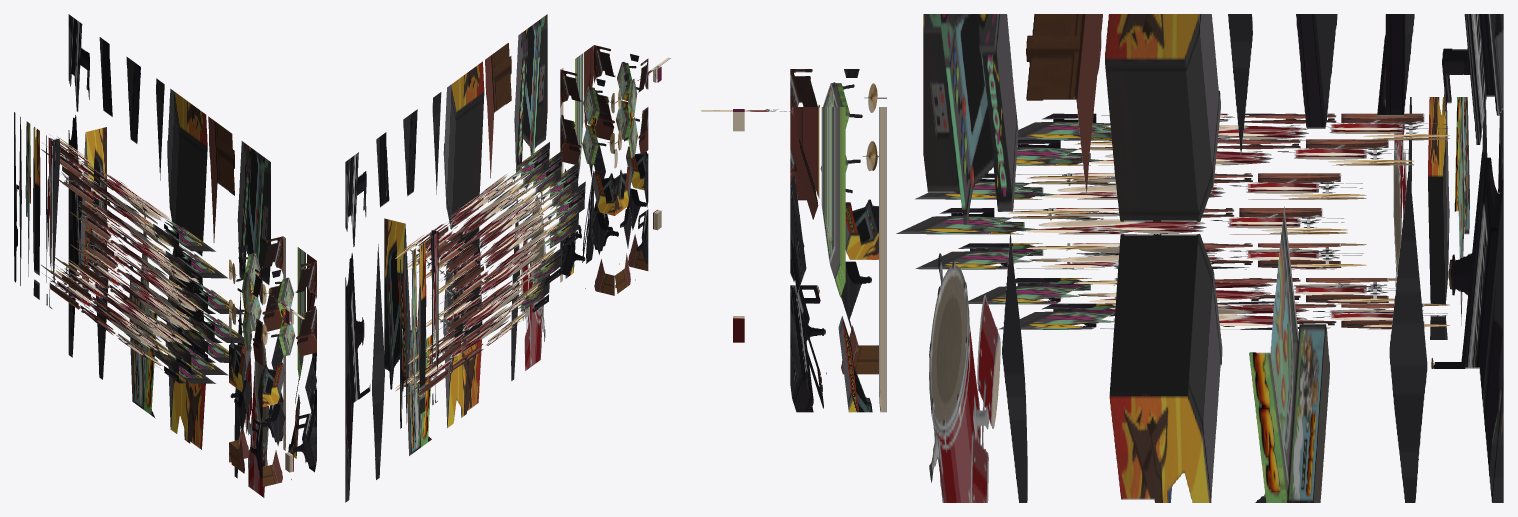
The picture shows the model from 3 angles, left to right: view 1: azimuth 30°, elevation 25°; view 2: azimuth 150°, elevation 25°; view 3: azimuth 270°, elevation 25°; orthographic projection. The views are drawn at different scales.
Bounding box in the file's own units: 0.363 × 2.17 × 3.22.
